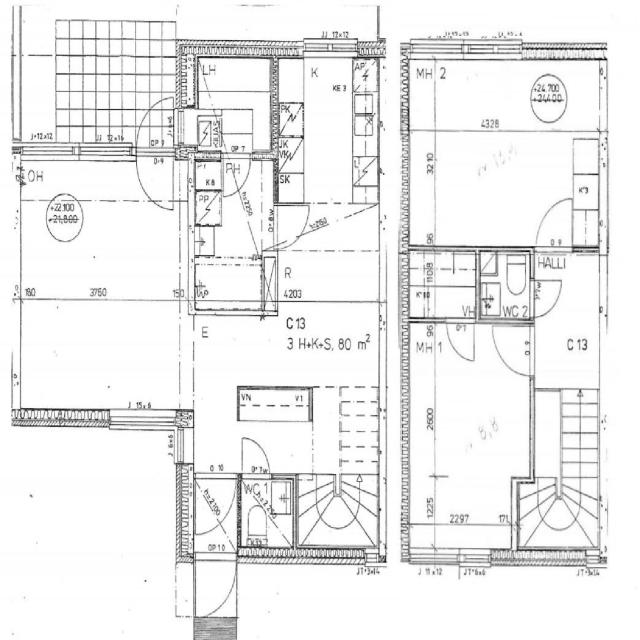door: (193, 556, 238, 621), (532, 194, 575, 253), (491, 322, 535, 379), (274, 202, 311, 250), (238, 433, 274, 481), (530, 276, 565, 320), (444, 319, 477, 365), (222, 154, 253, 198)
window: (107, 410, 173, 437), (77, 144, 131, 166), (302, 43, 356, 60), (458, 548, 493, 568)
zone: (420, 74, 578, 248), (431, 331, 534, 490), (276, 56, 379, 204), (532, 256, 602, 392), (406, 250, 480, 322), (203, 84, 271, 157), (238, 478, 296, 549), (478, 249, 532, 324), (192, 262, 267, 316), (192, 474, 238, 556), (195, 57, 272, 97), (217, 106, 260, 156), (571, 208, 600, 252), (195, 112, 221, 154), (194, 188, 221, 224), (194, 160, 223, 192), (176, 426, 195, 467)
